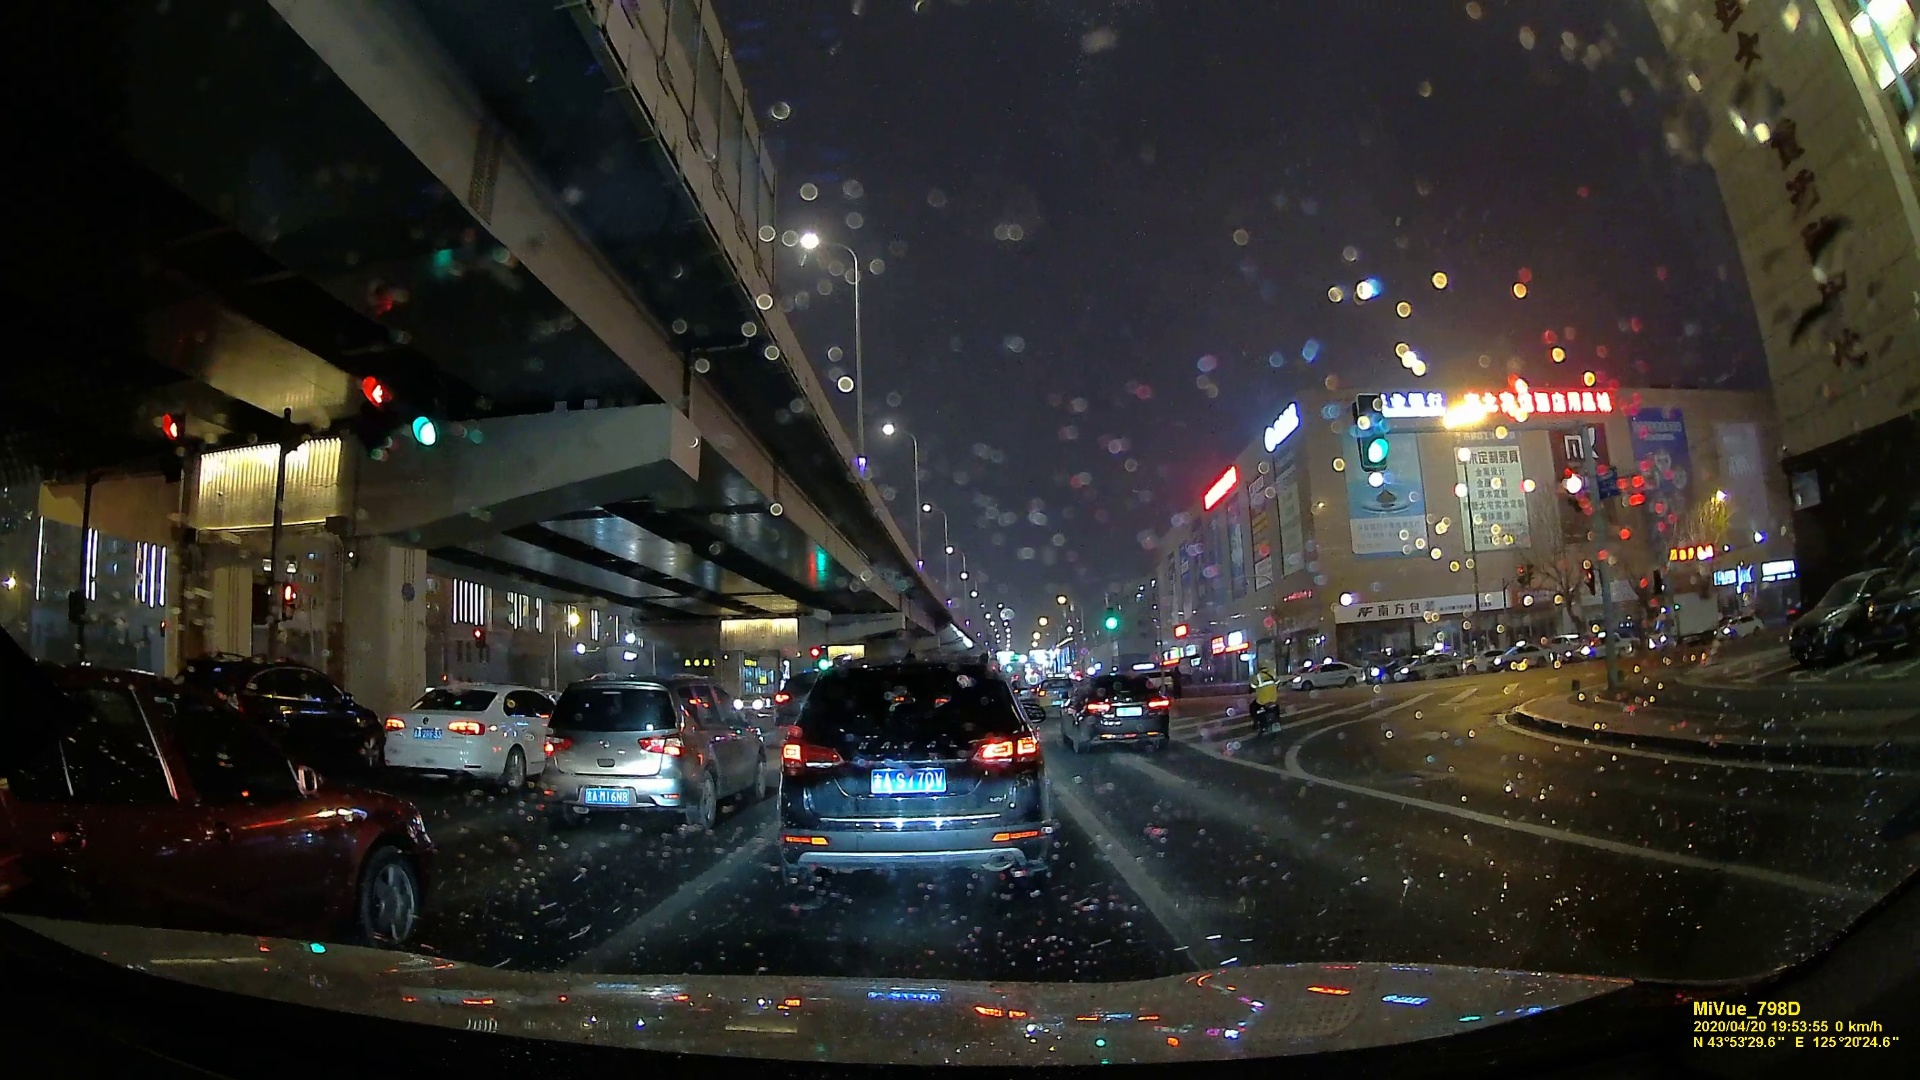person: (1244, 660, 1286, 711)
traffic_sign: (1351, 396, 1394, 474), (357, 375, 394, 446), (408, 375, 445, 446), (159, 414, 188, 475), (282, 582, 300, 621), (1106, 607, 1117, 627)
vehicle: (25, 656, 424, 951), (779, 649, 1045, 892), (545, 671, 762, 828), (389, 675, 534, 793), (1063, 670, 1175, 750), (1293, 659, 1365, 691)
